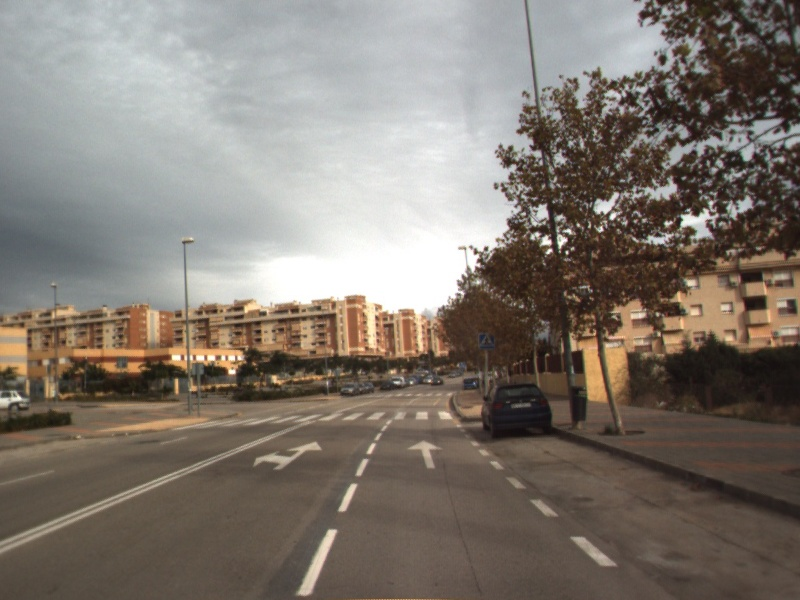STRAIGHT: (405, 438, 445, 470)
STRAIGHT_LEFT: (251, 439, 324, 472)
